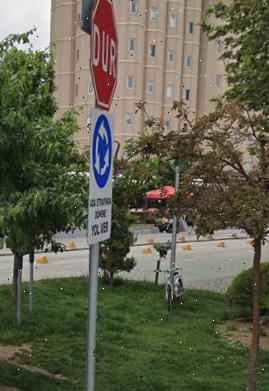crossroads: (89, 116, 114, 179)
stop: (91, 0, 122, 108)
